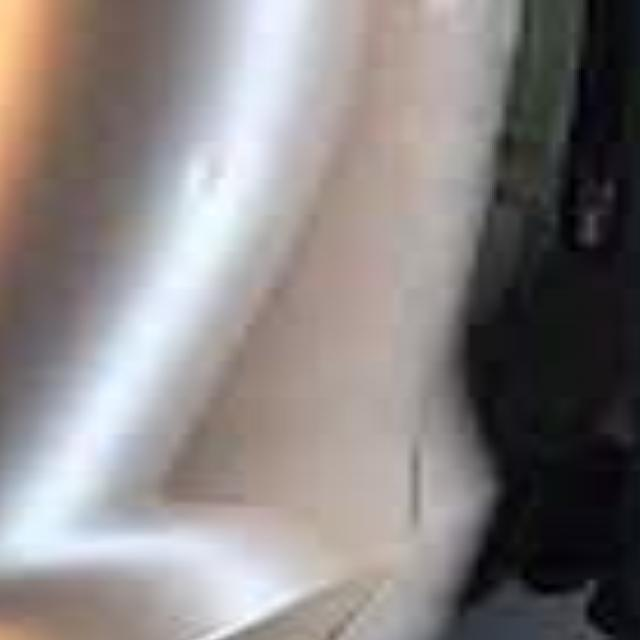dents: (123, 132, 252, 252)
